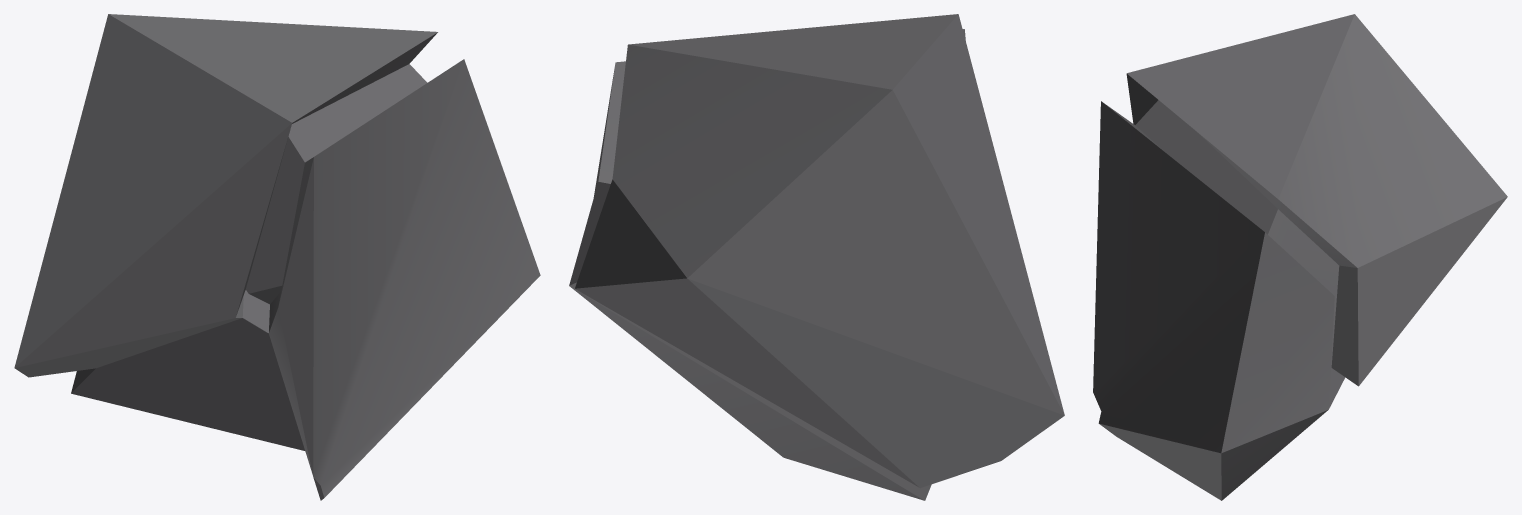
Rendered from Roca Rota Cw.fbx.
3 renders of one model, left to right at view 1: azimuth 30°, elevation 25°; view 2: azimuth 150°, elevation 25°; view 3: azimuth 270°, elevation 25°, orthographic. The views are drawn at different scales.
Visible parts, largest first — view 1: polySurface503; view 2: polySurface503; view 3: polySurface503.
Boxes of the visible parts, <box> form: polySurface503: <box>14,14,540,500</box>; polySurface503: <box>569,14,1064,500</box>; polySurface503: <box>1093,14,1507,500</box>.
Size of the model in its own units: 1.28 by 1.1 by 1.01.
